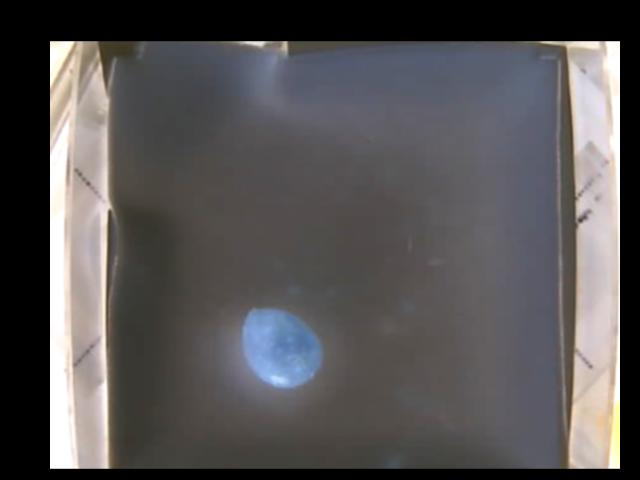Potato: (245, 309, 322, 387)
